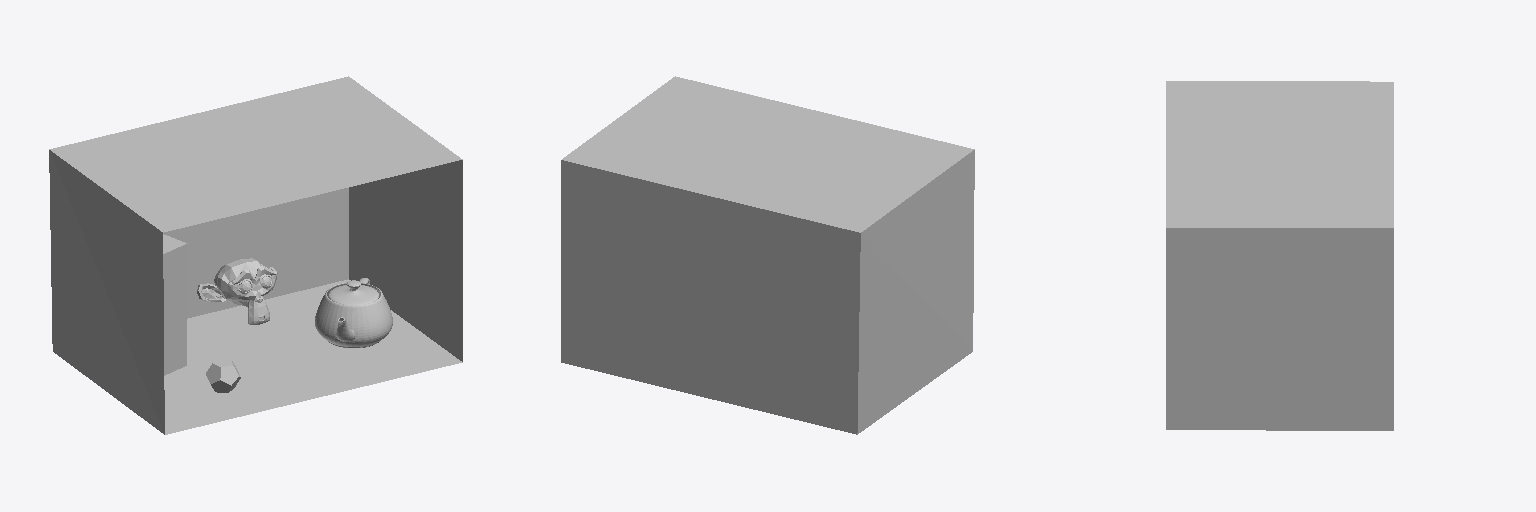
The model's file is raytraced-scene===.obj.
3 views of the same model, side by side, from view 1: azimuth 30°, elevation 25°; view 2: azimuth 150°, elevation 25°; view 3: azimuth 270°, elevation 25° (orthographic).
Parts seen in each view (by area): view 1: ceiling, left_wall, floor, right_wall, back_wall, Teapot, tall_box, Suzanne, Dodecahedron; view 2: back_wall, ceiling, left_wall; view 3: right_wall, ceiling.
Boxes of the visible parts, x1,y1,x2,y2 form: ceiling: [49, 76, 462, 232]; left_wall: [49, 150, 164, 434]; floor: [164, 279, 462, 434]; right_wall: [349, 160, 462, 361]; back_wall: [163, 188, 348, 318]; Teapot: [315, 278, 392, 347]; tall_box: [163, 234, 186, 375]; Suzanne: [197, 258, 277, 324]; Dodecahedron: [206, 359, 240, 392]; back_wall: [561, 160, 860, 434]; ceiling: [562, 76, 974, 232]; left_wall: [857, 150, 974, 434]; right_wall: [1166, 228, 1393, 430]; ceiling: [1166, 81, 1393, 227].
Bounding box in the file's own units: 8.49 × 5.49 × 5.6.